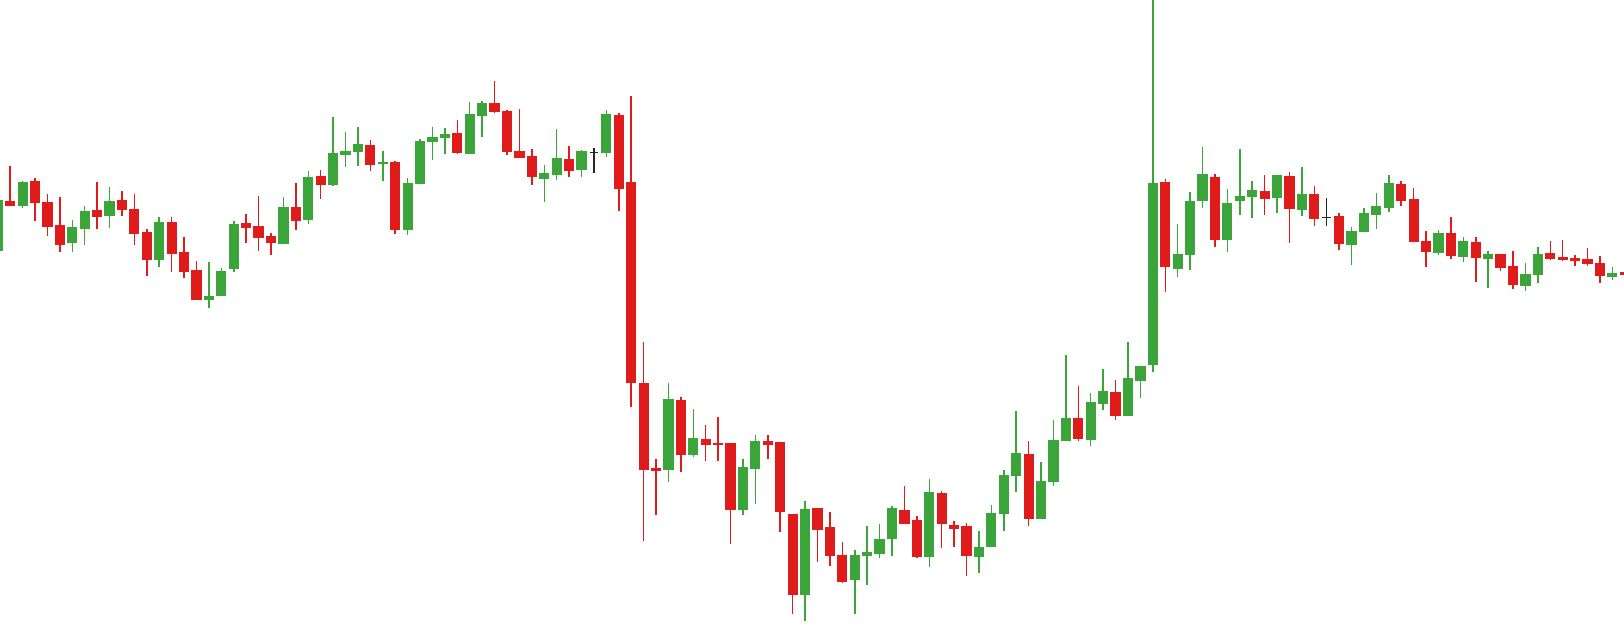buy: (726, 460, 813, 627), (914, 508, 984, 580)
